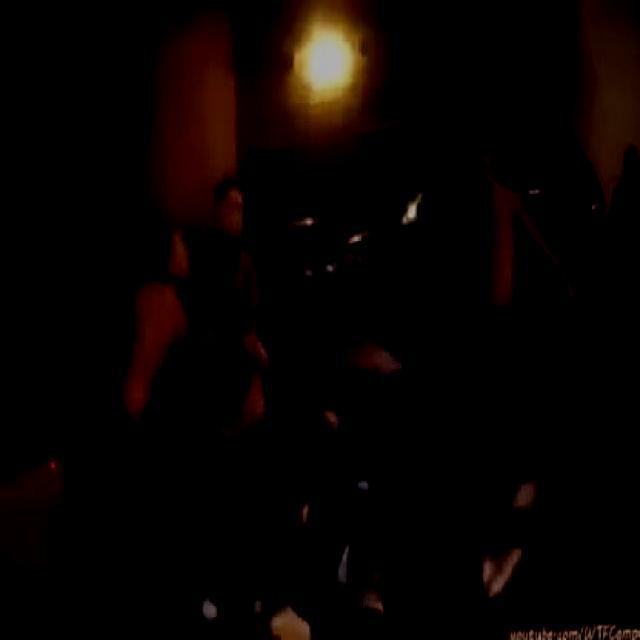fight: (276, 333, 522, 633), (110, 218, 268, 508)
